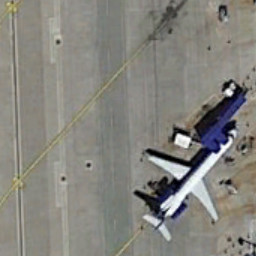Airplane: (123, 119, 247, 250)
